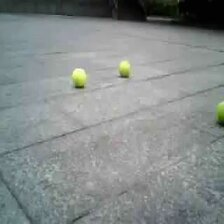tennis: (72, 68, 86, 88), (118, 61, 132, 77), (215, 102, 224, 121)
